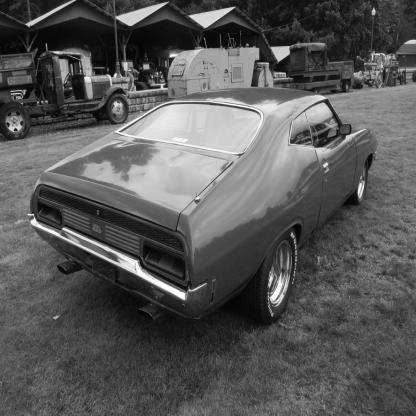car: (1, 85, 416, 348)
